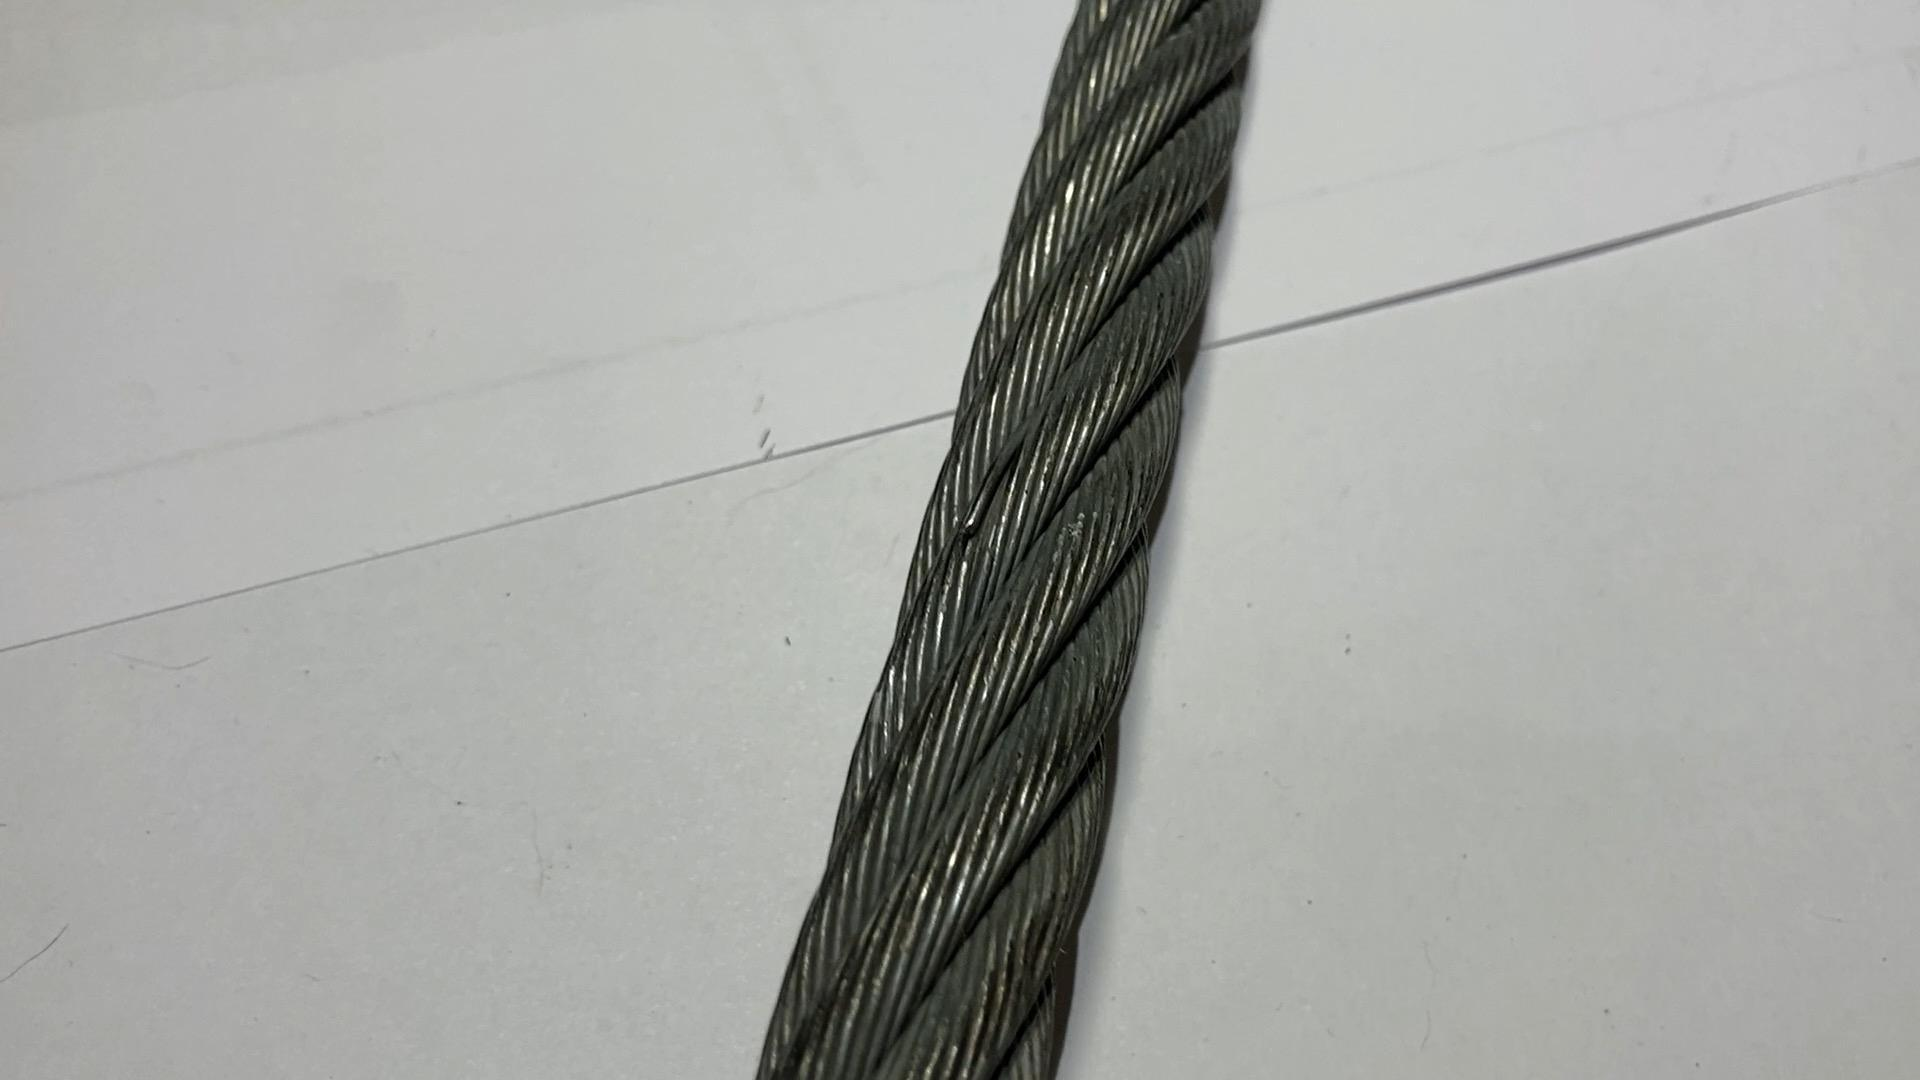break: (948, 447, 1025, 547)
